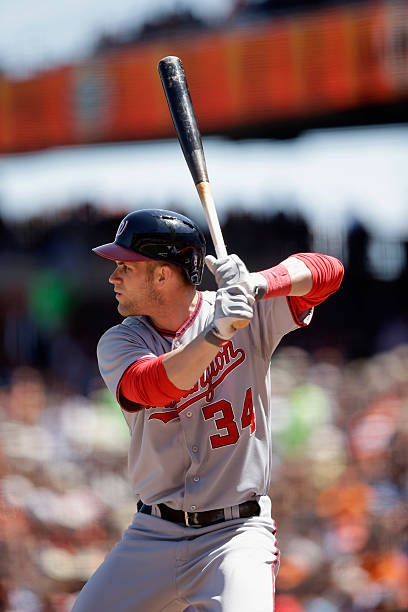bita: (161, 55, 256, 326)
